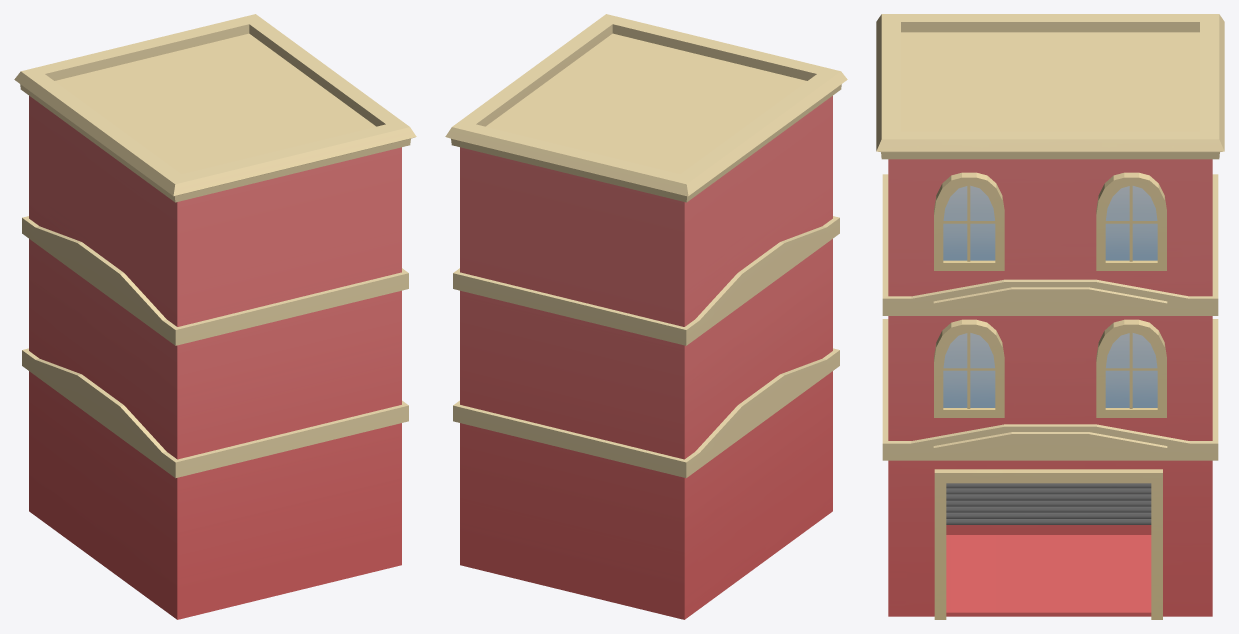
File: Gebäude06.glb
3 views of the same model, side by side, from view 1: azimuth 30°, elevation 25°; view 2: azimuth 150°, elevation 25°; view 3: azimuth 270°, elevation 25° (orthographic). The views are drawn at different scales.
Visible parts, largest first — view 1: Cube.014; view 2: Cube.014; view 3: Cube.014.
Part boxes in pixels (x1,y1,x2,y2): Cube.014: (14,14,416,619); Cube.014: (445,14,847,619); Cube.014: (876,14,1224,619).
Bounding box in the file's own units: 5.4 × 9.31 × 6.12.
Materials: 1 (1 with a texture image).
